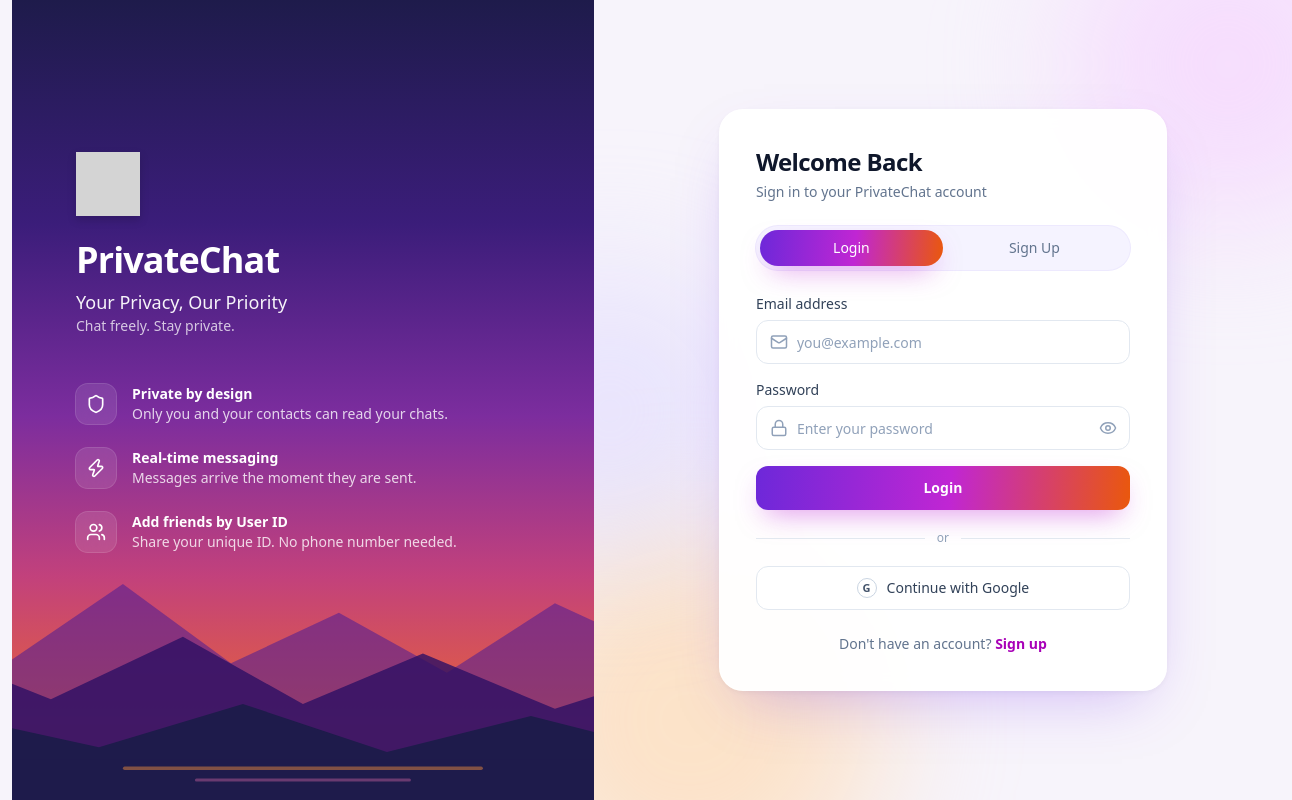
login page › toggles password visibility
Click the button named "Show password": {"x": 1108, "y": 428} [1092,412,1124,444]
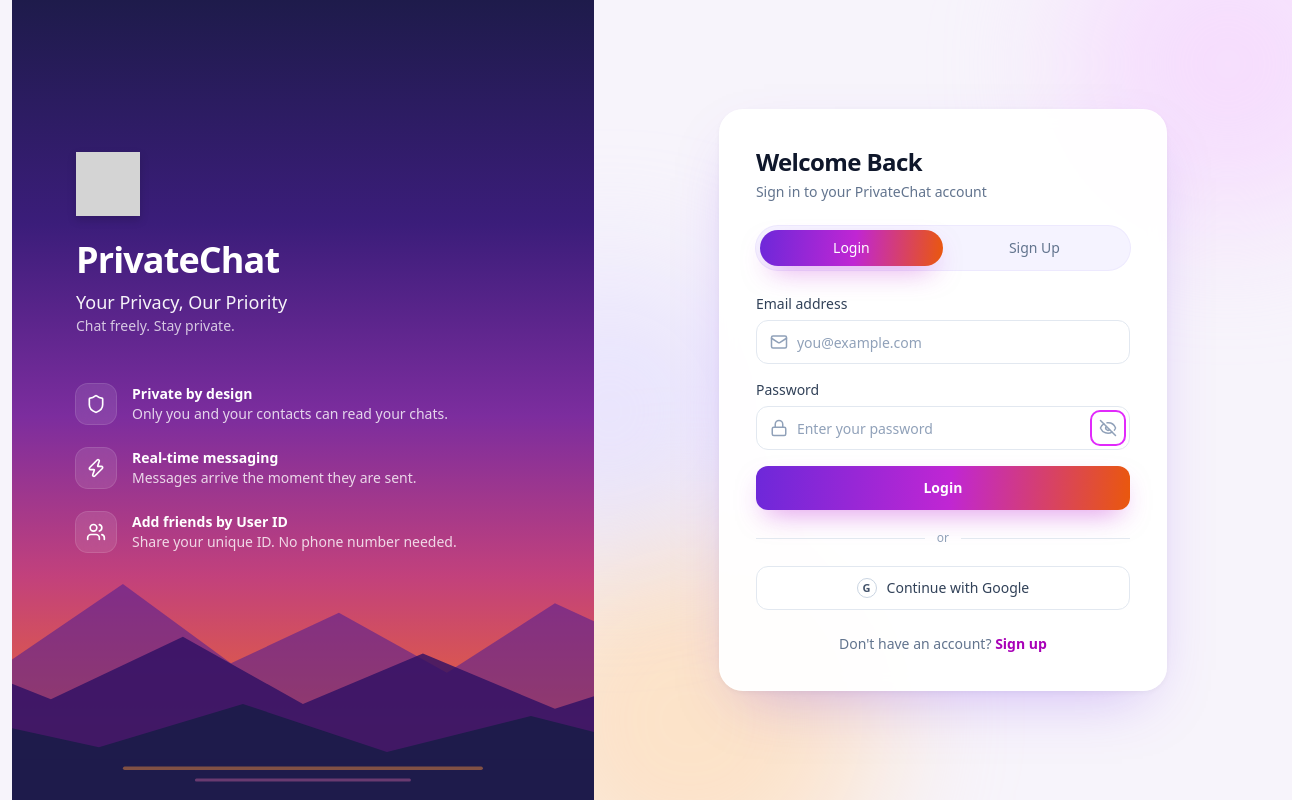
expect the button named "Hide password" is shown: met, box [1092,412,1124,444]
